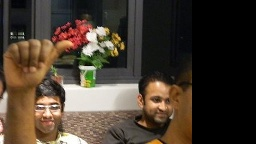Pugno: (0, 36, 73, 89)
